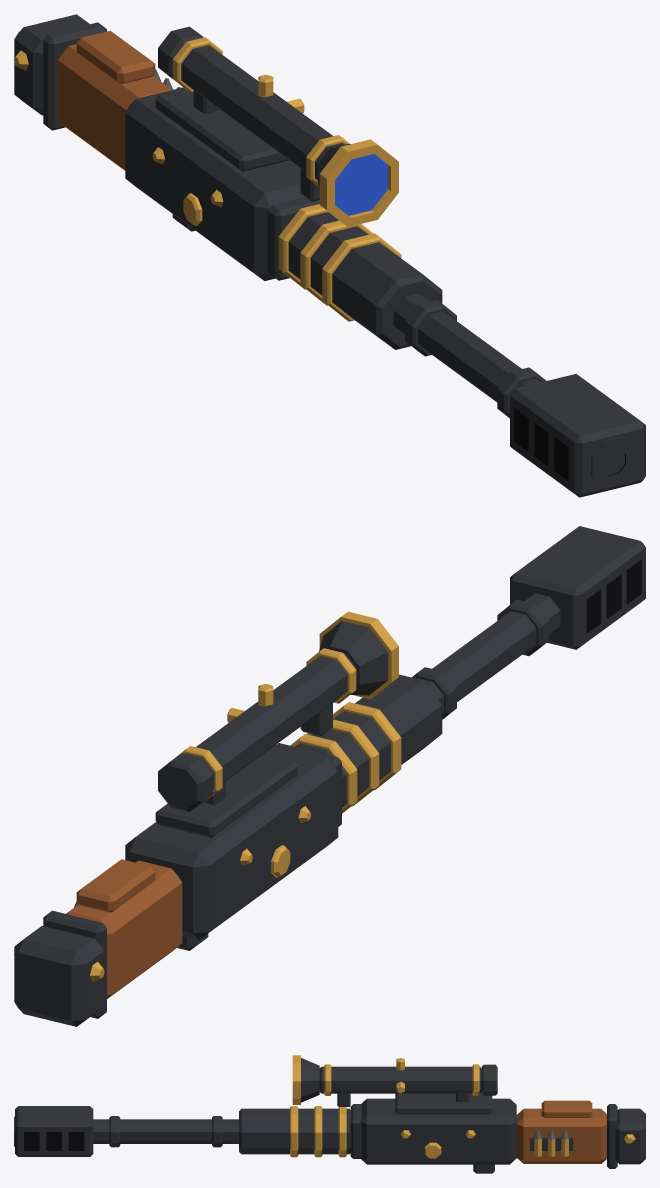
The model's file is SniperA1.obj.
3 renders of one model, top to bottom at view 1: azimuth 30°, elevation 25°; view 2: azimuth 150°, elevation 25°; view 3: azimuth 270°, elevation 25°, orthographic. The views are drawn at different scales.
Parts seen in each view (by area): view 1: SniperA1; view 2: SniperA1; view 3: SniperA1.
Part boxes in pixels (bbox=[...]): SniperA1: bbox=[14, 14, 645, 497]; SniperA1: bbox=[14, 526, 645, 1026]; SniperA1: bbox=[14, 1055, 645, 1173].
Size of the model in its own units: 0.2742 by 0.5524 by 2.81.
